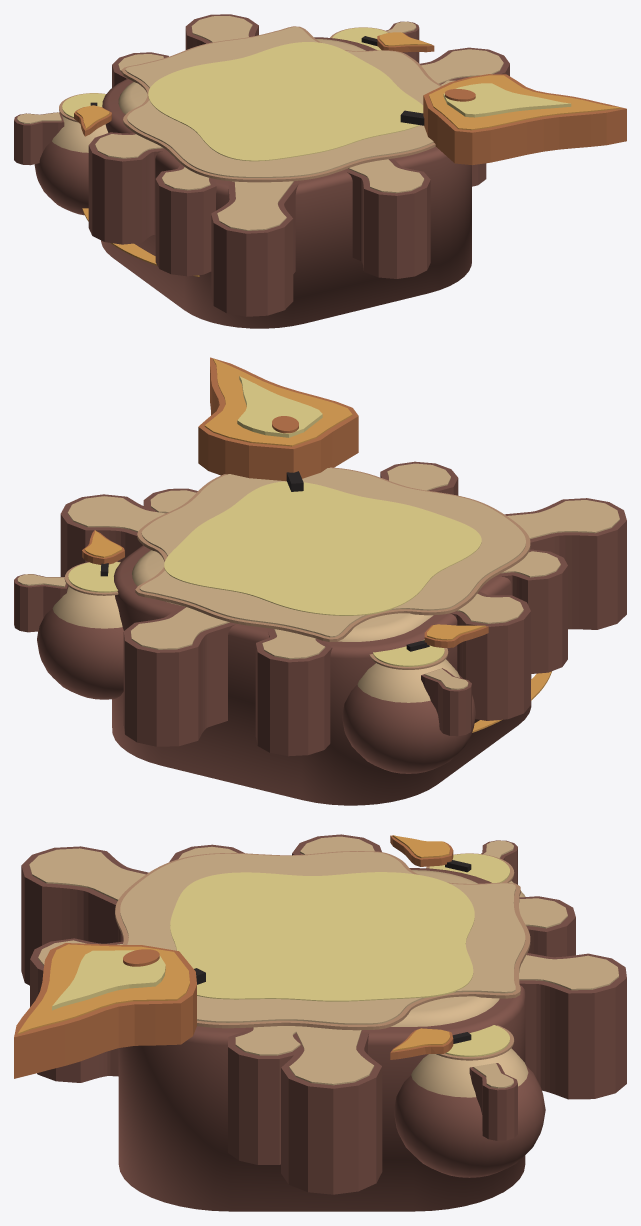
The model's file is body_vela.fbx.
The picture shows the model from 3 angles, top to bottom: view 1: azimuth 30°, elevation 25°; view 2: azimuth 150°, elevation 25°; view 3: azimuth 270°, elevation 25°; orthographic projection. The views are drawn at different scales.
Visible parts, largest first — view 1: body_vela_corpo, body_vela_mao_esq, body_vela_corpo_neon, body_vela_mao, body_vela_mao_neon, body_vela_mao_esq_neon; view 2: body_vela_corpo, body_vela_mao_esq, body_vela_mao, body_vela_corpo_neon, body_vela_mao_esq_neon; view 3: body_vela_corpo, body_vela_mao, body_vela_corpo_neon, body_vela_mao_esq, body_vela_mao_neon, body_vela_mao_esq_neon.
Part boxes in pixels (box(x1,y1,x2,y2)): body_vela_corpo: box(82, 14, 626, 328); body_vela_mao_esq: box(14, 93, 111, 215); body_vela_corpo_neon: box(429, 75, 621, 130); body_vela_mao: box(330, 21, 434, 63); body_vela_mao_neon: box(379, 32, 431, 46); body_vela_mao_esq_neon: box(76, 105, 109, 129); body_vela_corpo: box(60, 357, 626, 805); body_vela_mao_esq: box(342, 625, 488, 773); body_vela_mao: box(14, 530, 124, 699); body_vela_corpo_neon: box(204, 358, 352, 446); body_vela_mao_esq_neon: box(427, 624, 485, 640); body_vela_corpo: box(14, 834, 626, 1211); body_vela_mao: box(390, 1025, 545, 1177); body_vela_corpo_neon: box(17, 944, 189, 1034); body_vela_mao_esq: box(390, 835, 525, 897); body_vela_mao_neon: box(392, 1028, 450, 1051); body_vela_mao_esq_neon: box(392, 835, 450, 858).
Size of the model in its own units: 6.13 by 2.53 by 6.03.
1 material, 1 textured.
